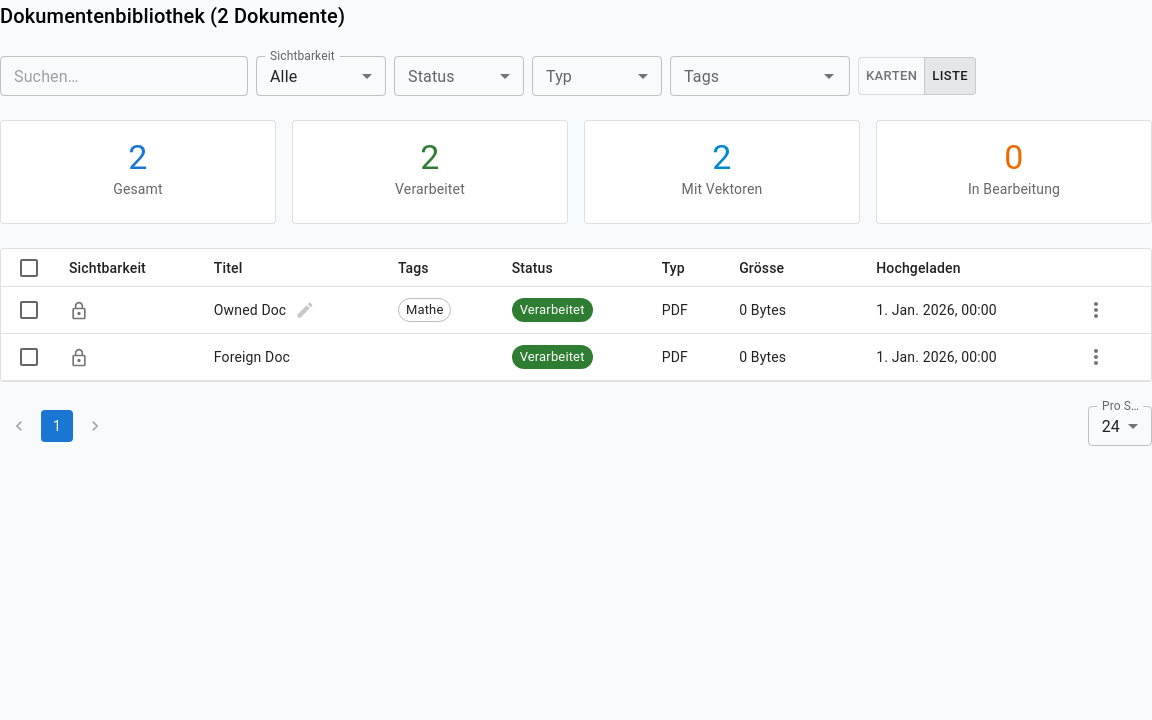
it: DocumentLibrary TF-355 paginated › (b) bulk visibility: API-Fehler → summary enthält Fehler
Expected: the text "Owned Doc" is shown, [214,300,286,320]
Click the checkbox named "Owned Doc". click: coordinates (29, 310)
box: [17,298,41,322]
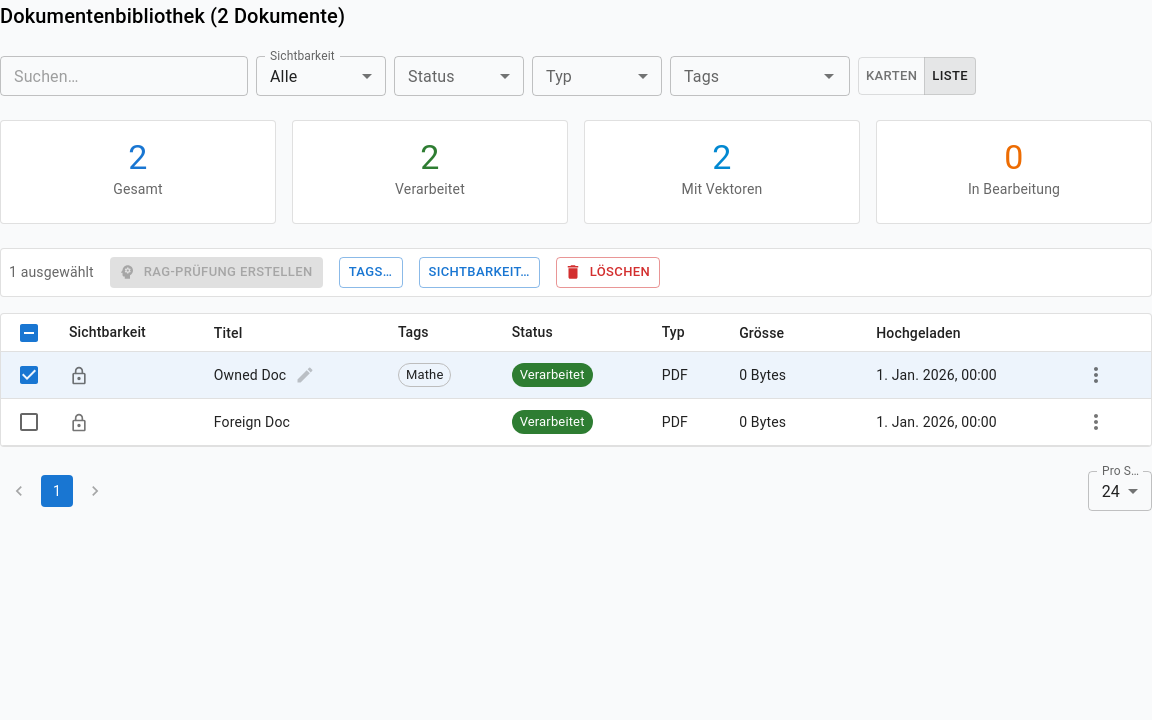
Click the checkbox named "Foreign Doc". click: coordinates (29, 422)
box: [17,410,41,434]
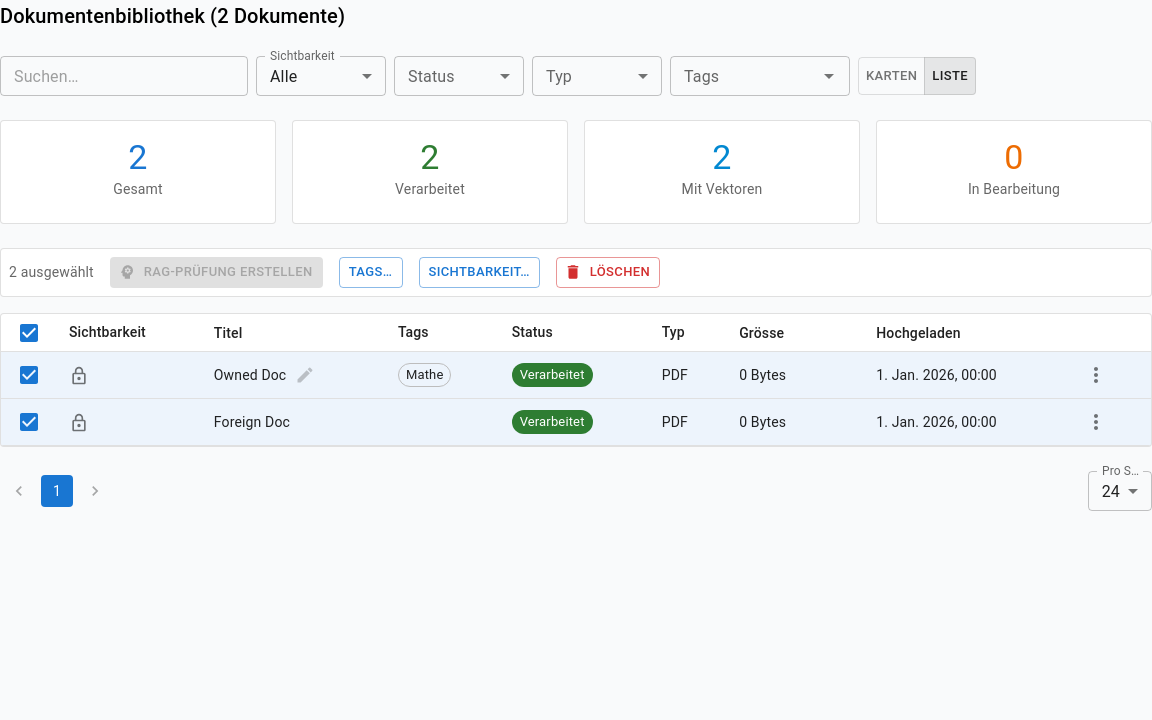
Click the button "Sichtbarkeit…". click: coordinates (479, 272)
box: [418,257,540,288]
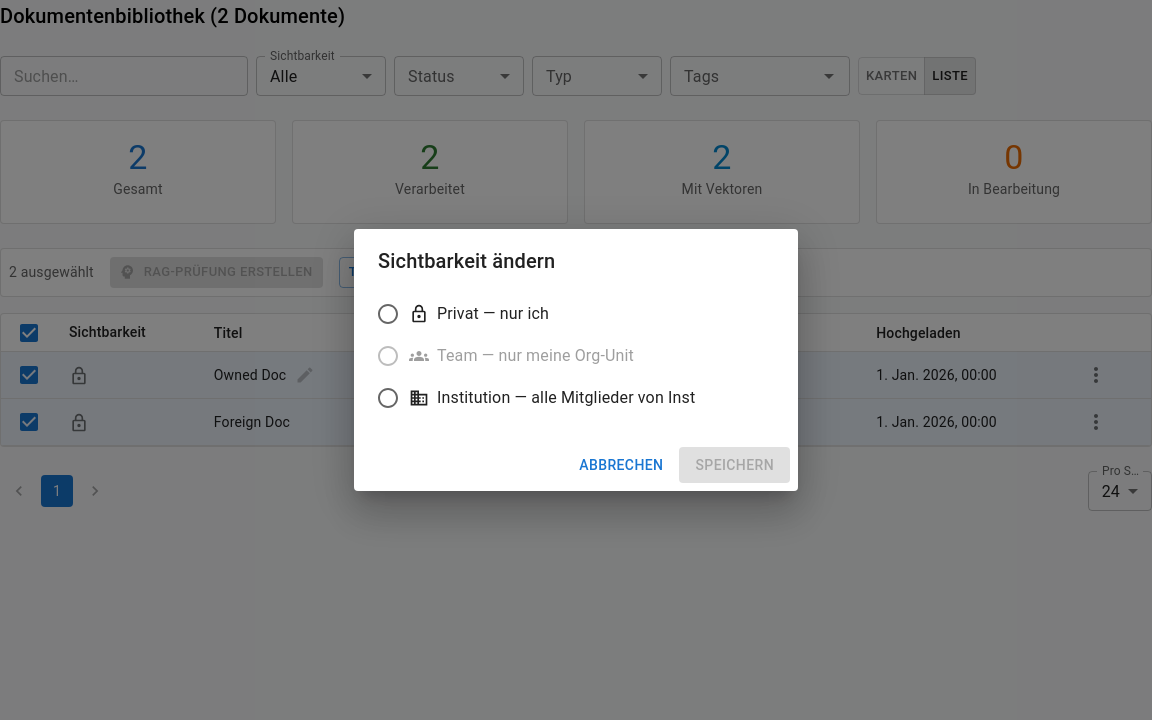
Click the radio button labelled "Privat — nur ich". click: coordinates (462, 314)
box: [376,302,549,326]
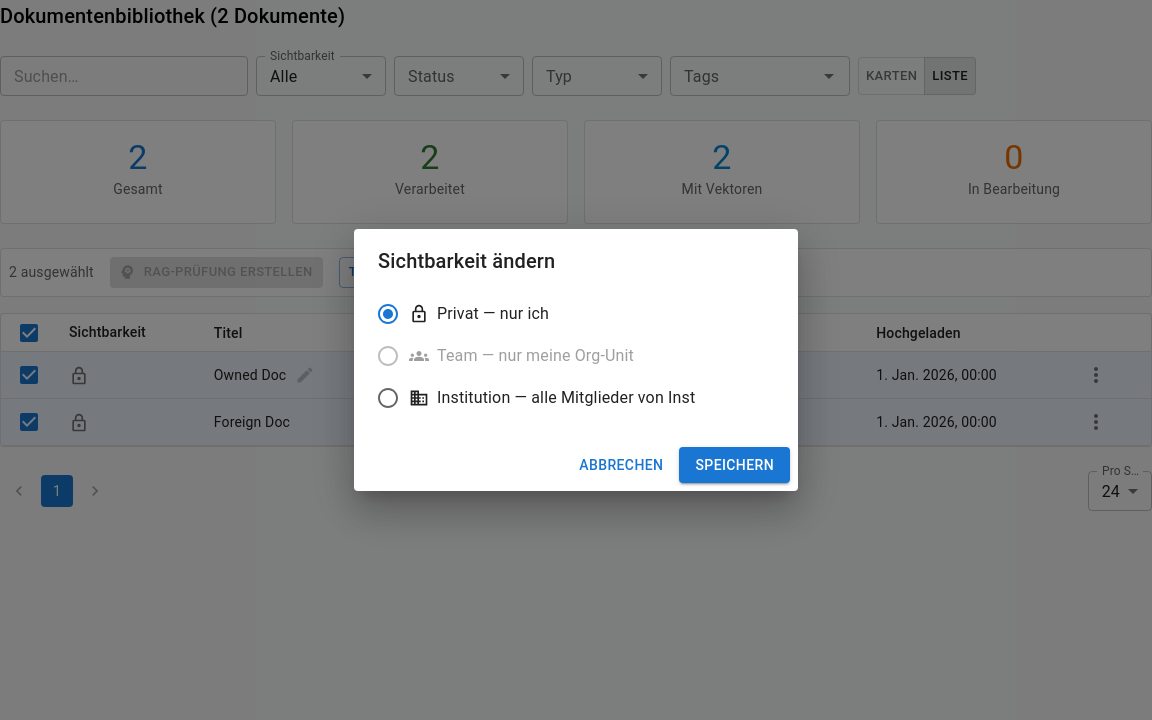
Click the button "Speichern". click: coordinates (735, 465)
box: [679,447,790,483]
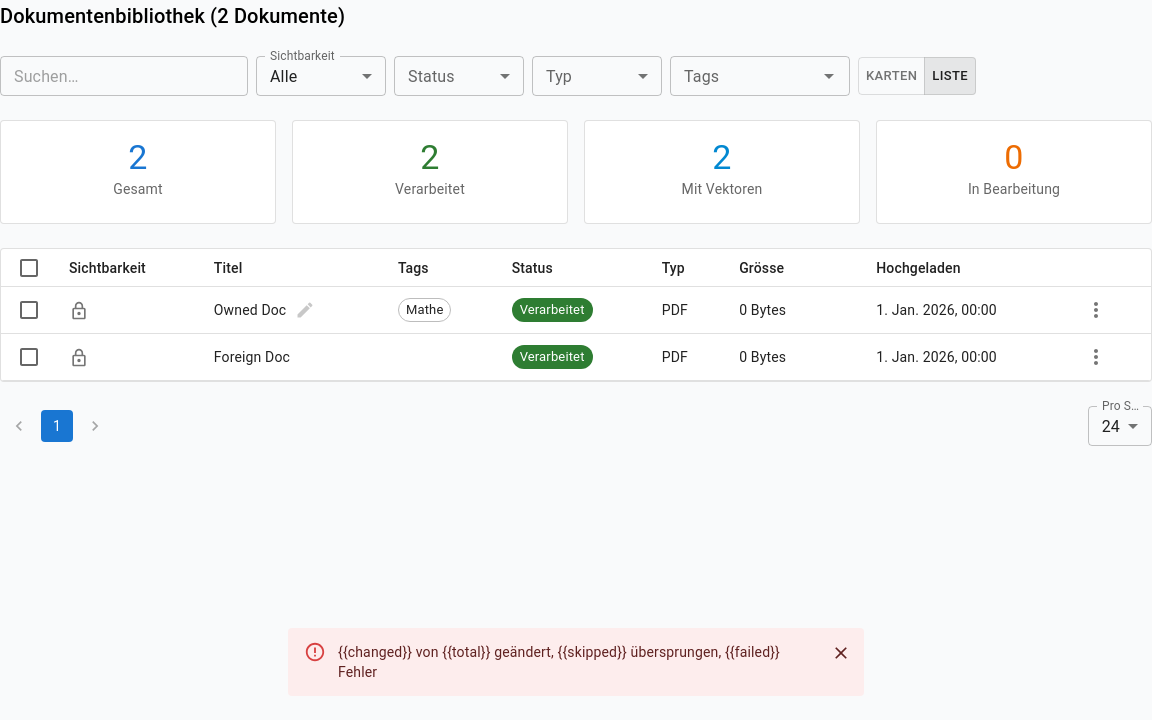
Now the text "Fehler" is shown, box [338,644,780,680]
